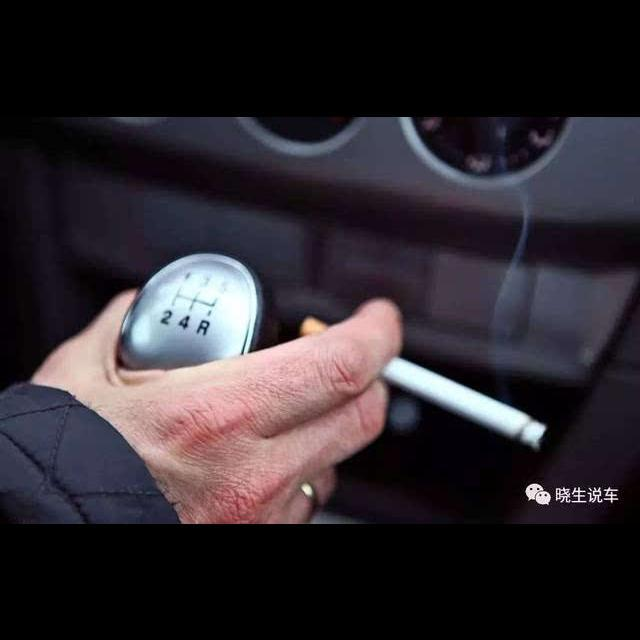rokok: (378, 352, 552, 460)
